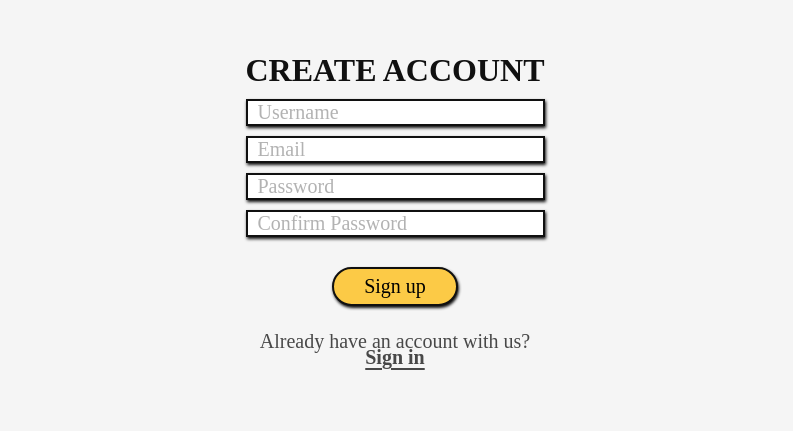
Test: Input Fields › should fail validation for passwords with only numbers
Step 1. Type "12345678" into the password field with placeholder "Password" → point(395, 186), box [246,172,544,200]
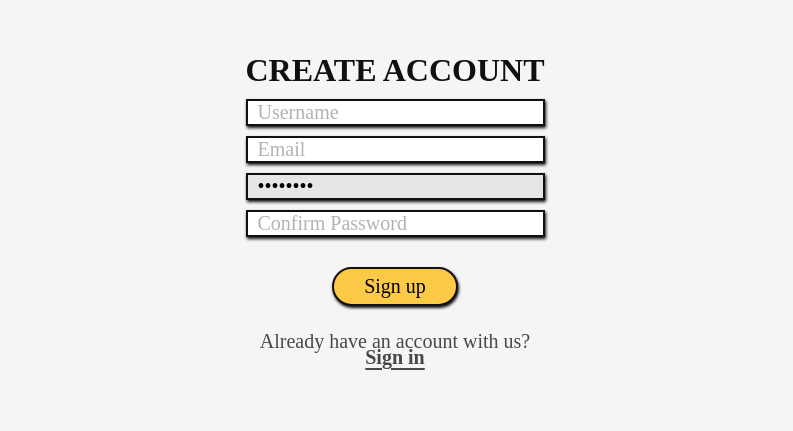
Step 2. Click the button "Sign up" → point(395, 286), box [332,266,458,306]
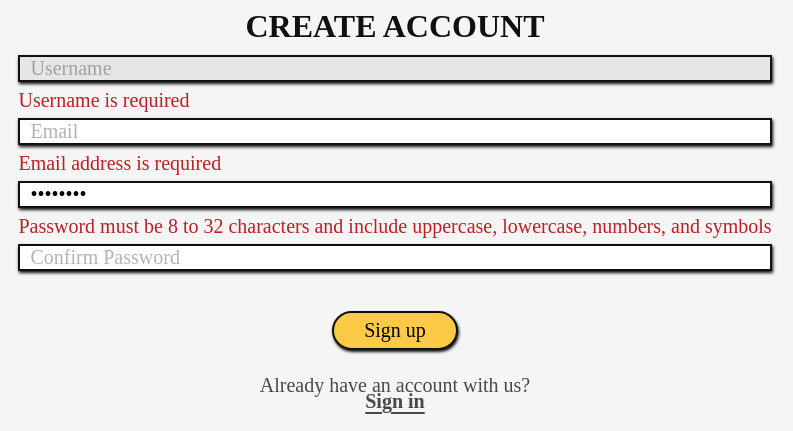
Result: the text "Password must be 8 to 32 characters and include uppercase, lowercase, numbers, and symbols" is shown at [18,214,772,236]
